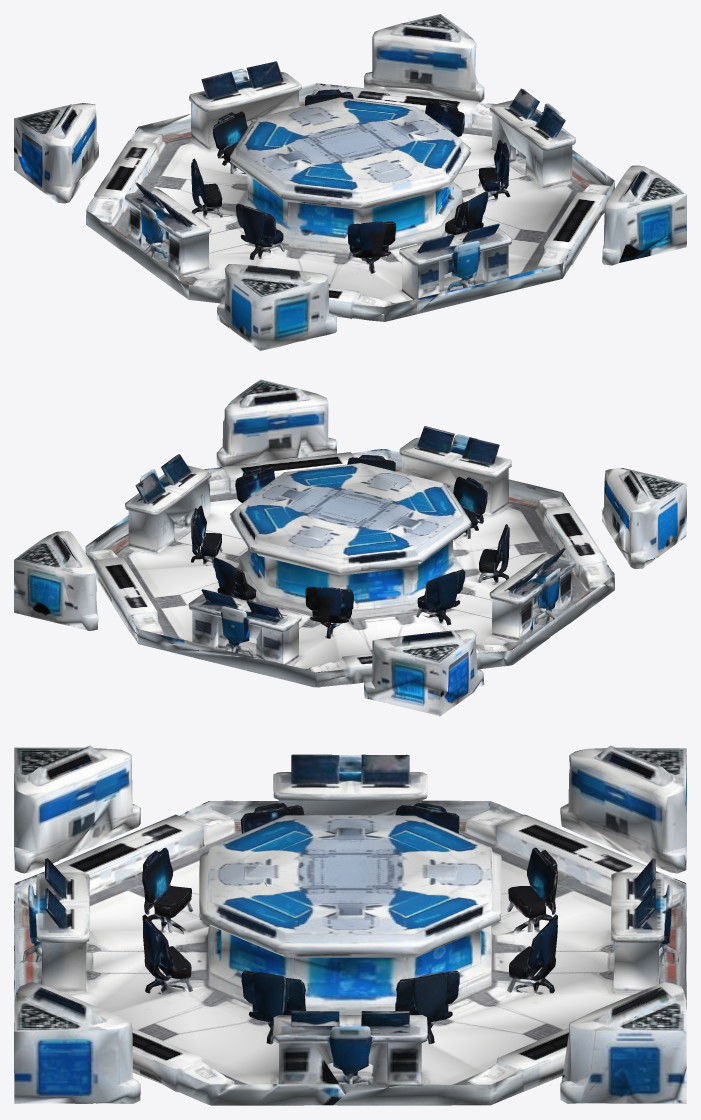
The model's file is capital_cic.repacked.glb.
3 renders of one model, top to bottom at view 1: azimuth 30°, elevation 25°; view 2: azimuth 150°, elevation 25°; view 3: azimuth 270°, elevation 25°, orthographic. The views are drawn at different scales.
Visible parts, largest first — view 1: Mesh1.0; view 2: Mesh1.0; view 3: Mesh1.0.
Boxes of the visible parts, x1,y1,x2,y2 form: Mesh1.0: (14,14,686,350); Mesh1.0: (14,379,686,716); Mesh1.0: (14,745,686,1105).
Bounding box in the file's own units: 1.91 × 0.2948 × 1.91.
1 material, 1 textured.
